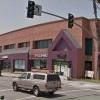Car: (11, 68, 59, 95)
